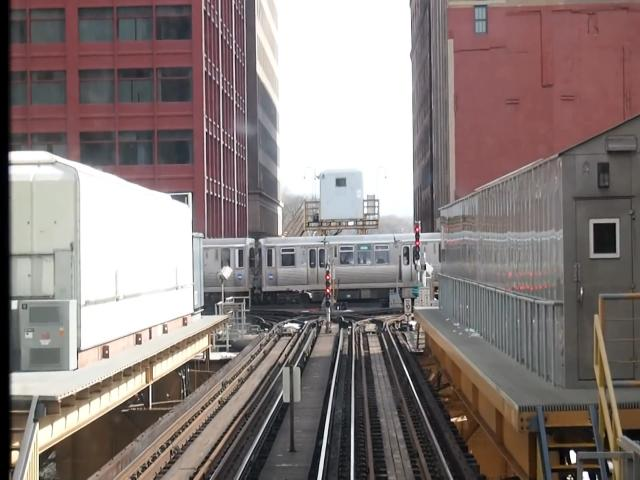signal light: (326, 271, 334, 312), (415, 222, 422, 261)
